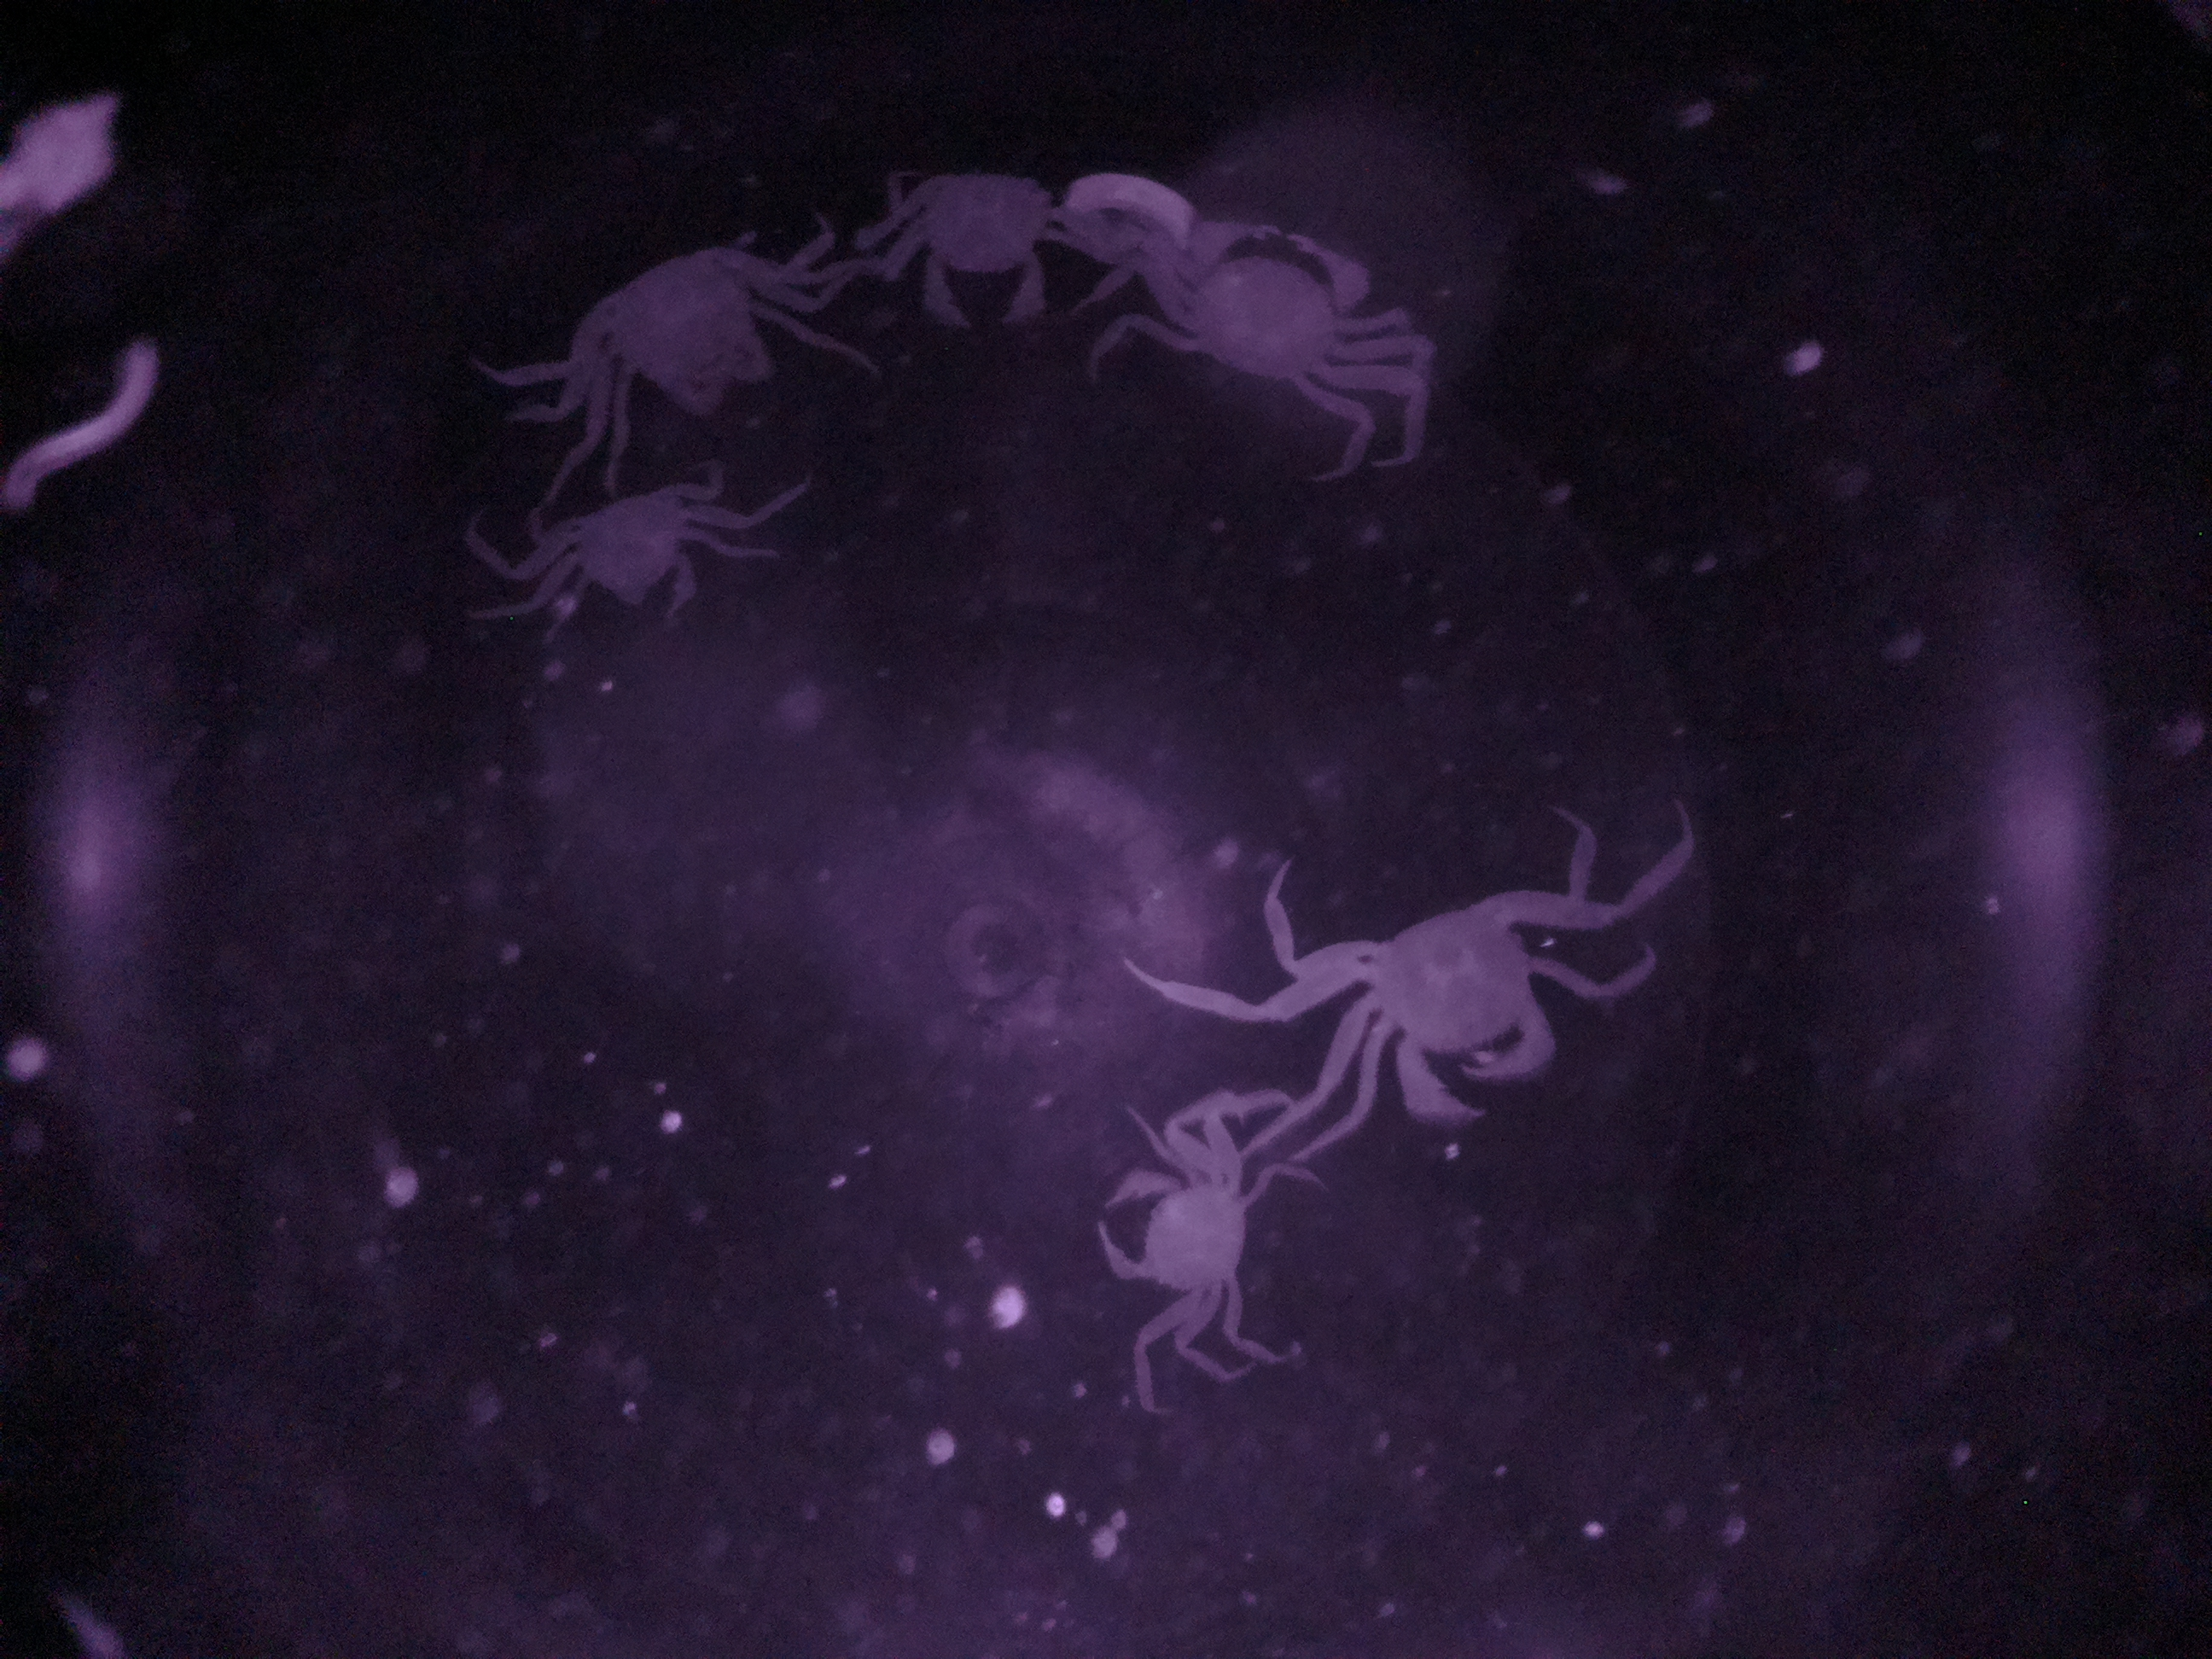Crab: (1261, 875, 1629, 1129), (1127, 204, 1395, 418), (495, 451, 777, 653), (1089, 1121, 1277, 1344)
